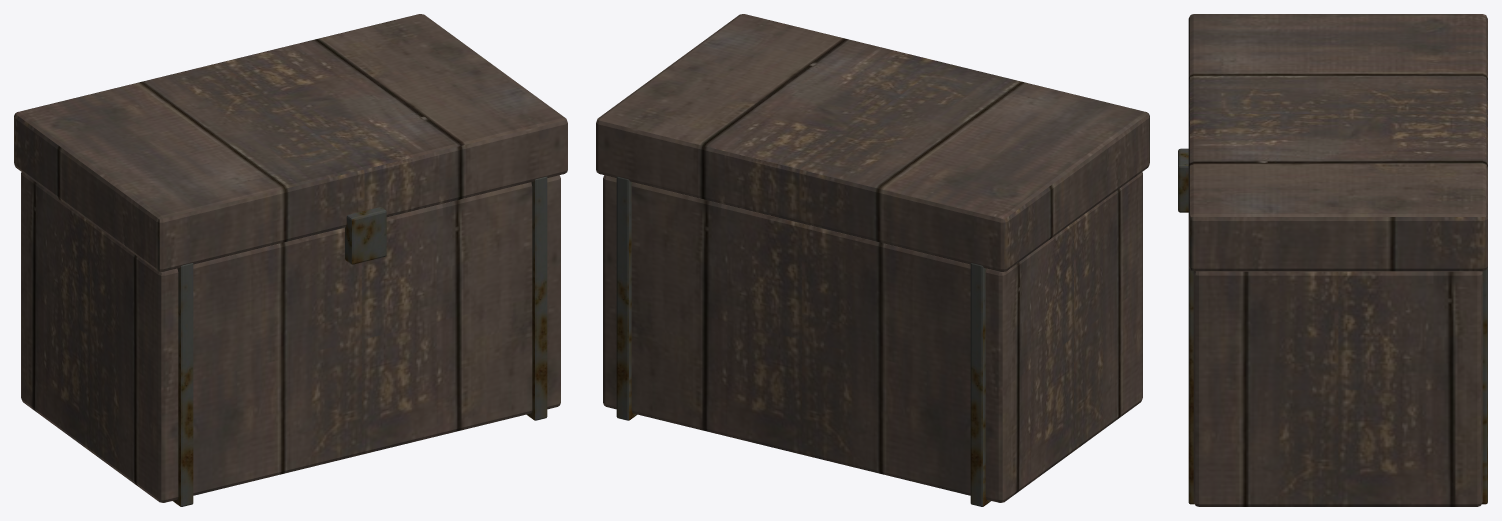
The model's file is chest.glb.
3 renders of one model, left to right at view 1: azimuth 30°, elevation 25°; view 2: azimuth 150°, elevation 25°; view 3: azimuth 270°, elevation 25°, orthographic.
Visible parts, largest first — view 1: body, Lid, band0.44, band-0.44, latch; view 2: body, Lid, band0.44, band-0.44; view 3: Lid, body, band0.44, latch.
Part boxes in pixels (x1,y1,x2,y2): body: (21, 172, 560, 502); Lid: (14, 14, 567, 271); band0.44: (526, 176, 547, 420); band-0.44: (173, 263, 193, 506); latch: (345, 207, 386, 264); body: (603, 172, 1142, 502); Lid: (596, 14, 1149, 271); band0.44: (616, 176, 637, 420); band-0.44: (970, 263, 990, 506); Lid: (1188, 14, 1487, 271); body: (1193, 271, 1482, 506); band0.44: (1188, 267, 1487, 504); latch: (1178, 148, 1188, 212).
Bounding box in the file's own units: 0.92 × 0.63 × 0.59.
2 materials, 2 textured.
